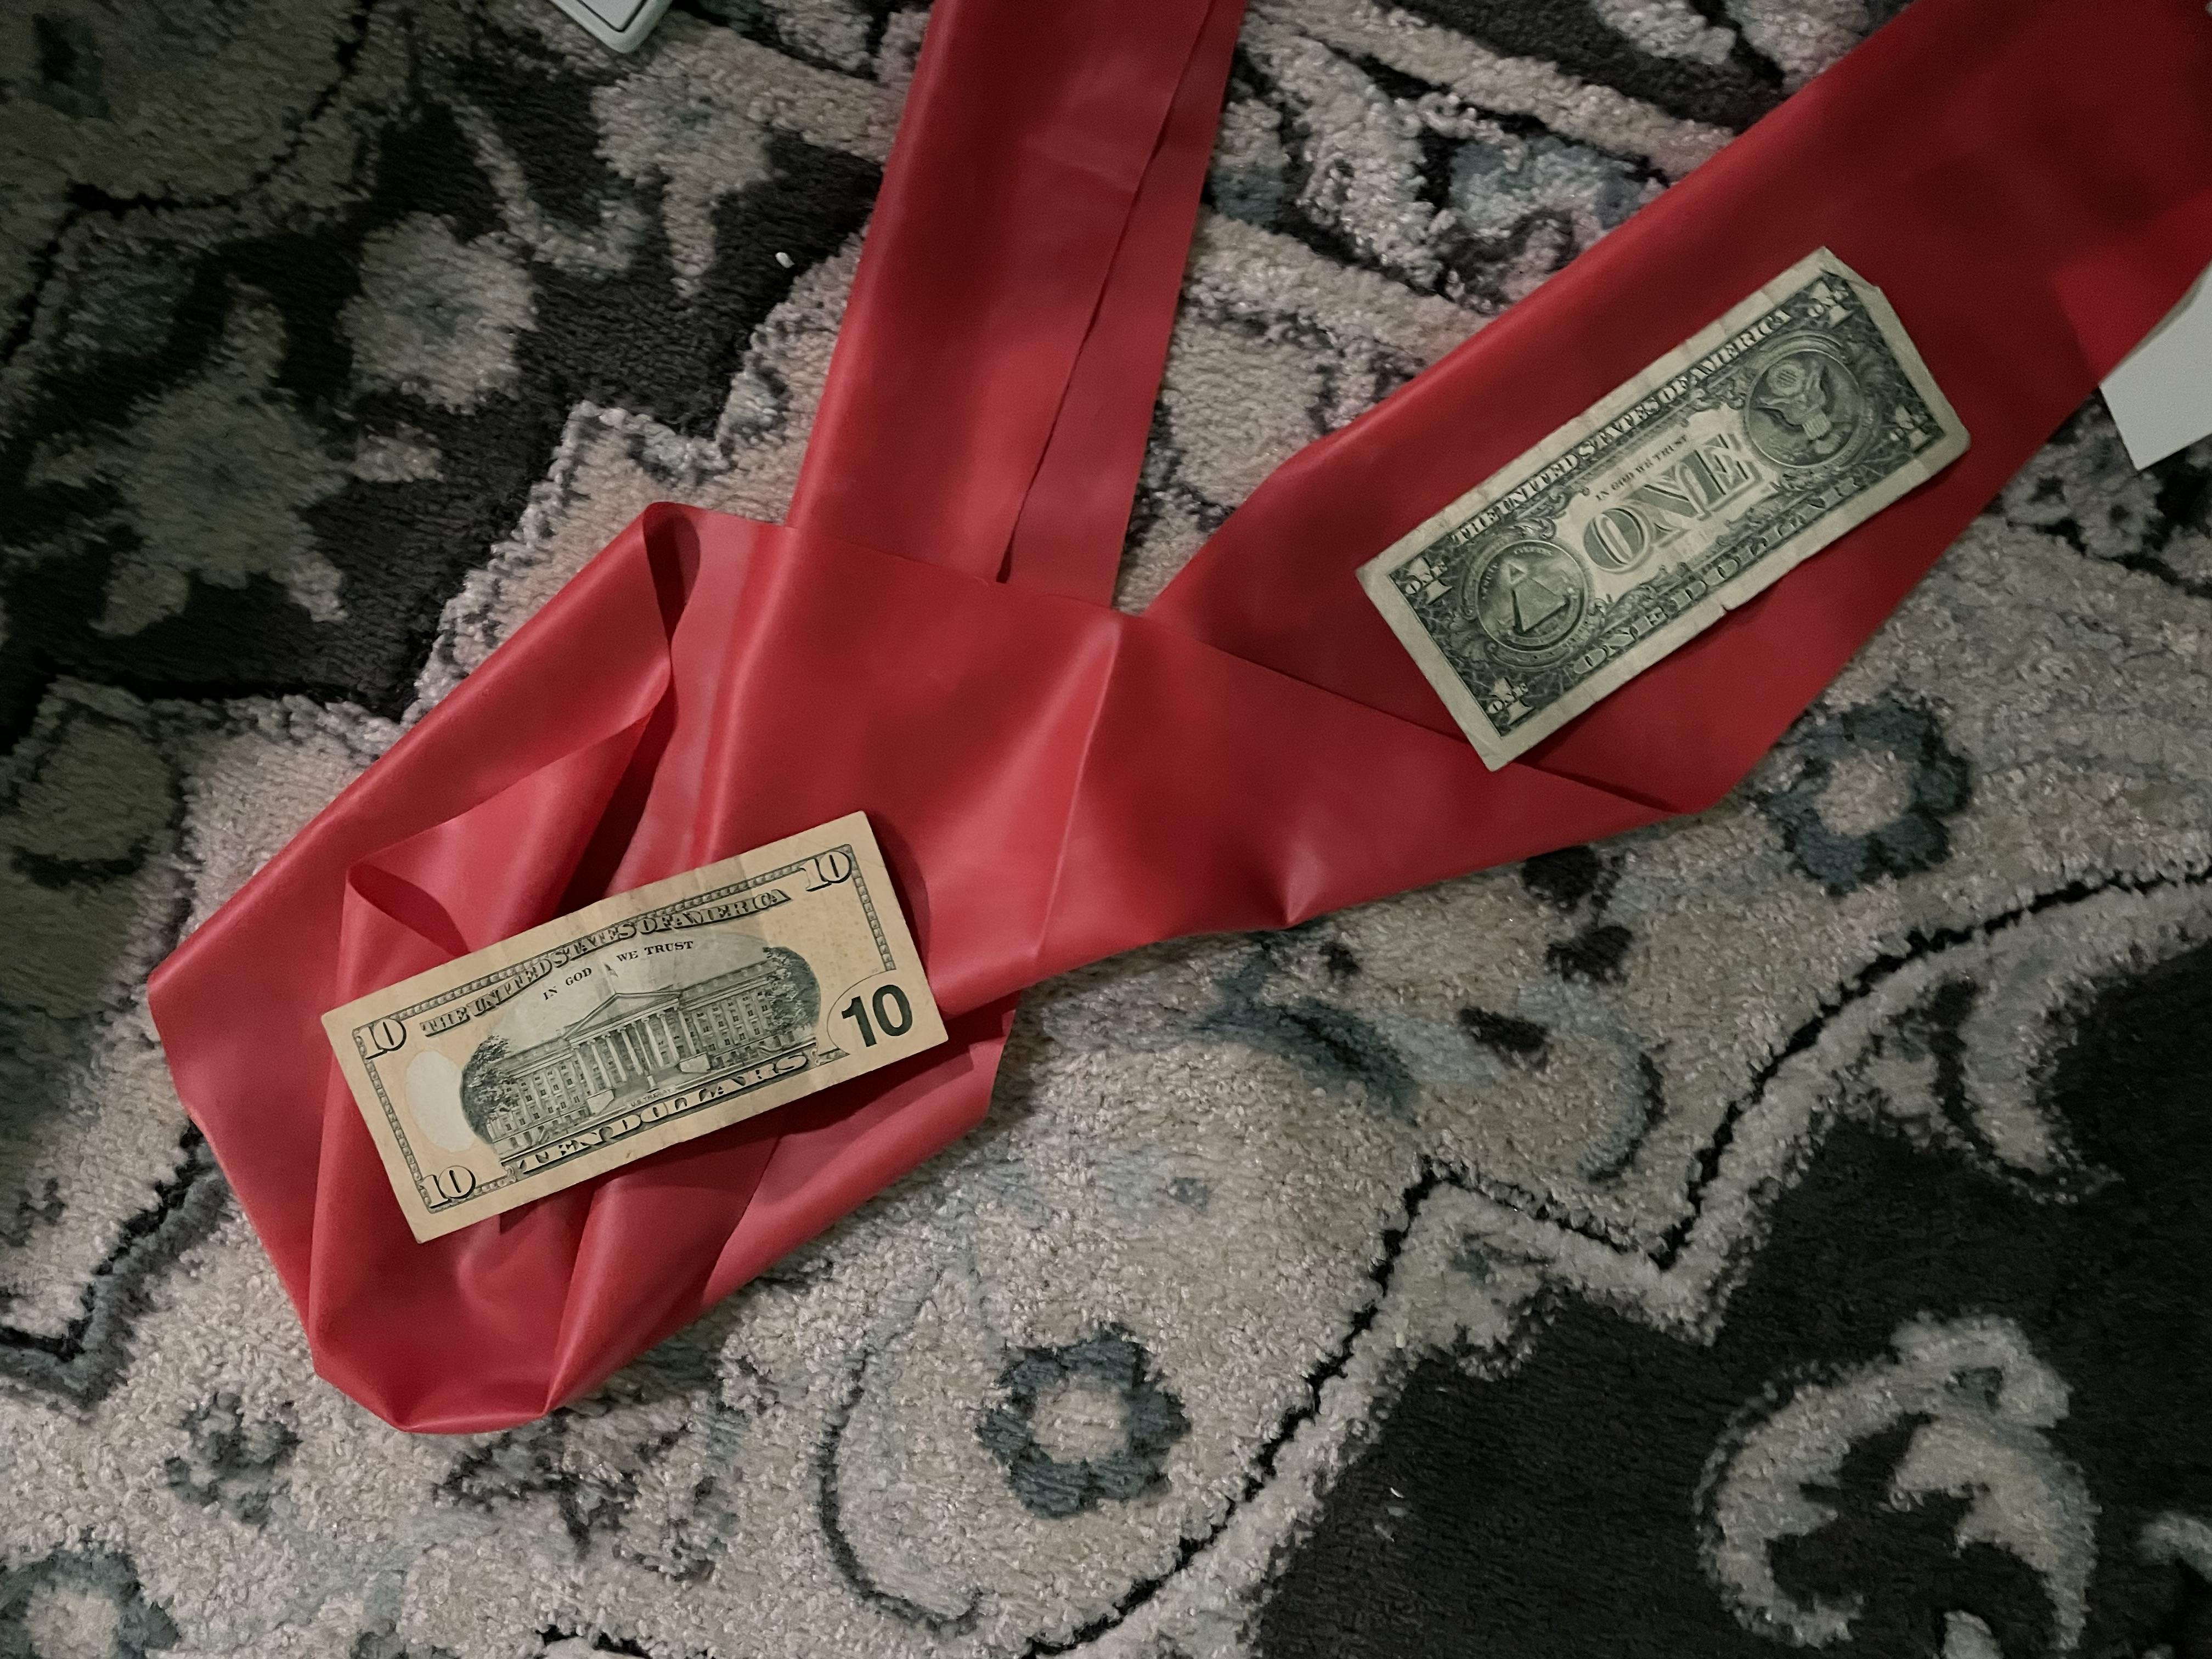OneBill: (1345, 240, 1977, 781)
TenBill: (319, 810, 972, 1253)
